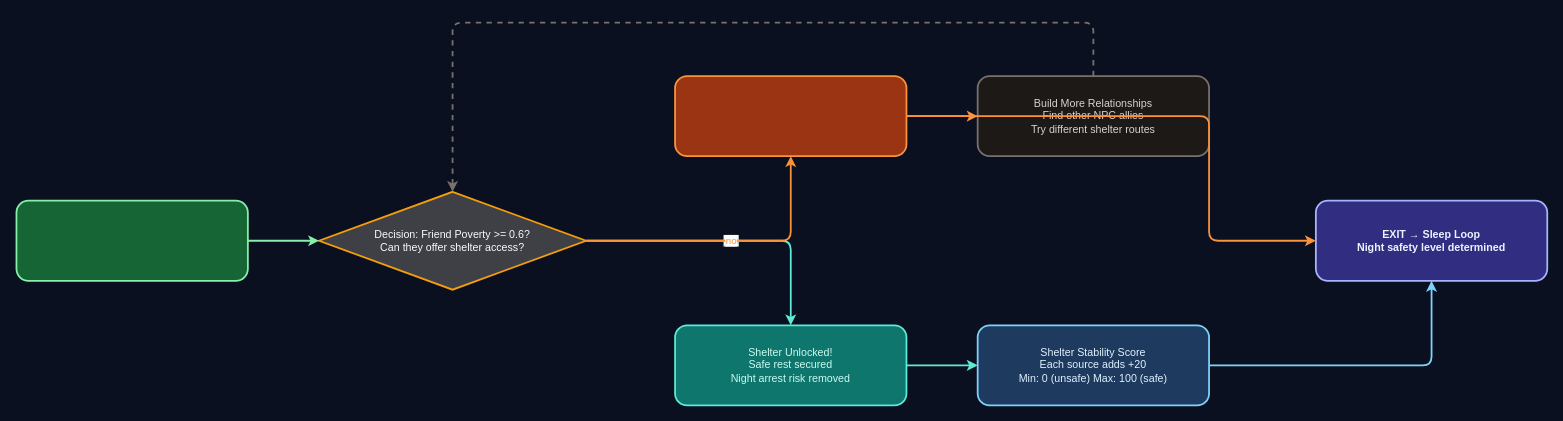
Some shapes in this 1563 by 421 pixel diagram are drawn without their labels. Each missing label, with the centre of its shape:
ENTRY: Befriended! NPC now recognizes you as ally Vouch granted (-25 heat): (131,240)
No Shelter Yet Friend can't help right now Street sleep risk remains: (790,116)
